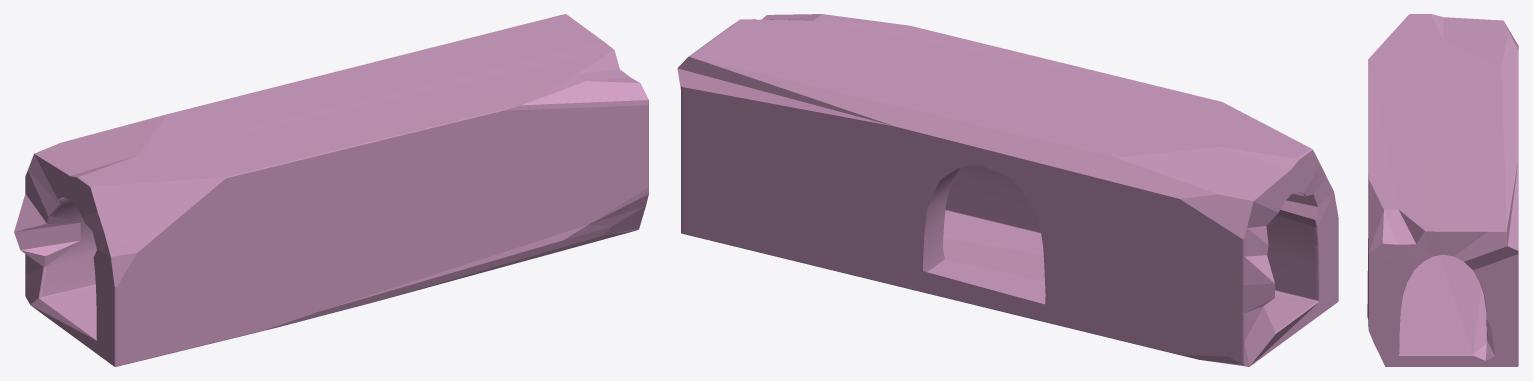
The model's file is kocia_chatka_dluga.fbx.
The picture shows the model from 3 angles, left to right: view 1: azimuth 30°, elevation 25°; view 2: azimuth 150°, elevation 25°; view 3: azimuth 270°, elevation 25°; orthographic projection. The views are drawn at different scales.
Visible parts, largest first — view 1: kocia_chatka_dluga; view 2: kocia_chatka_dluga; view 3: kocia_chatka_dluga.
Part boxes in pixels (box(x1,y1,x2,y2)): kocia_chatka_dluga: box(14, 14, 648, 366); kocia_chatka_dluga: box(677, 14, 1338, 366); kocia_chatka_dluga: box(1367, 14, 1518, 366).
Bounding box in the file's own units: 902 × 249 × 251.
